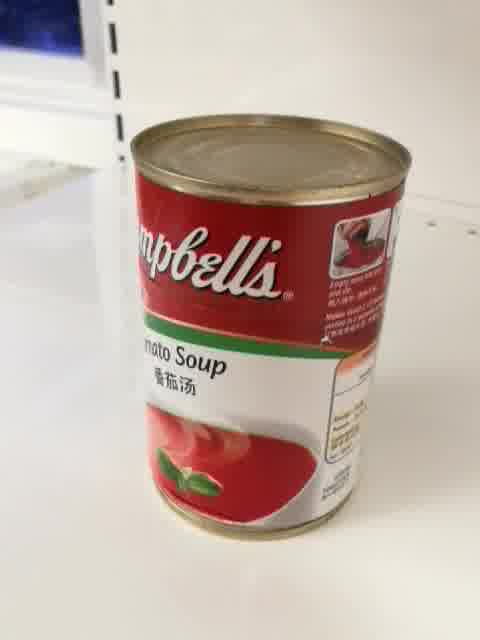tomatosoup: (128, 110, 412, 544)
